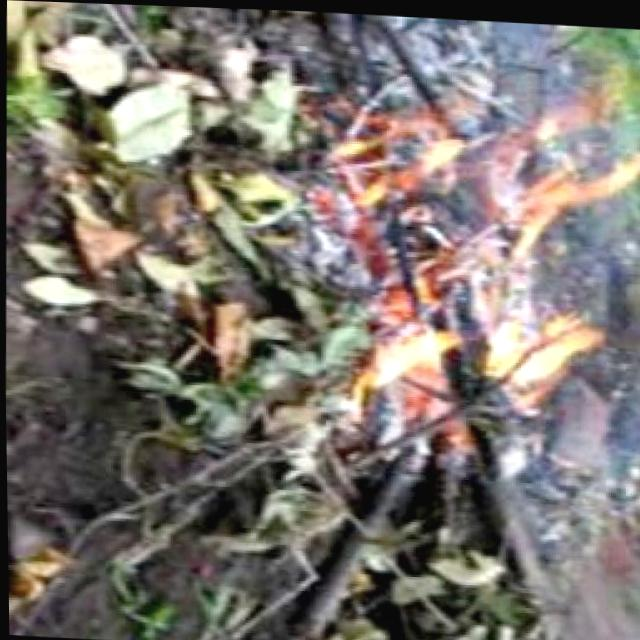helmet: (345, 77, 614, 436)
